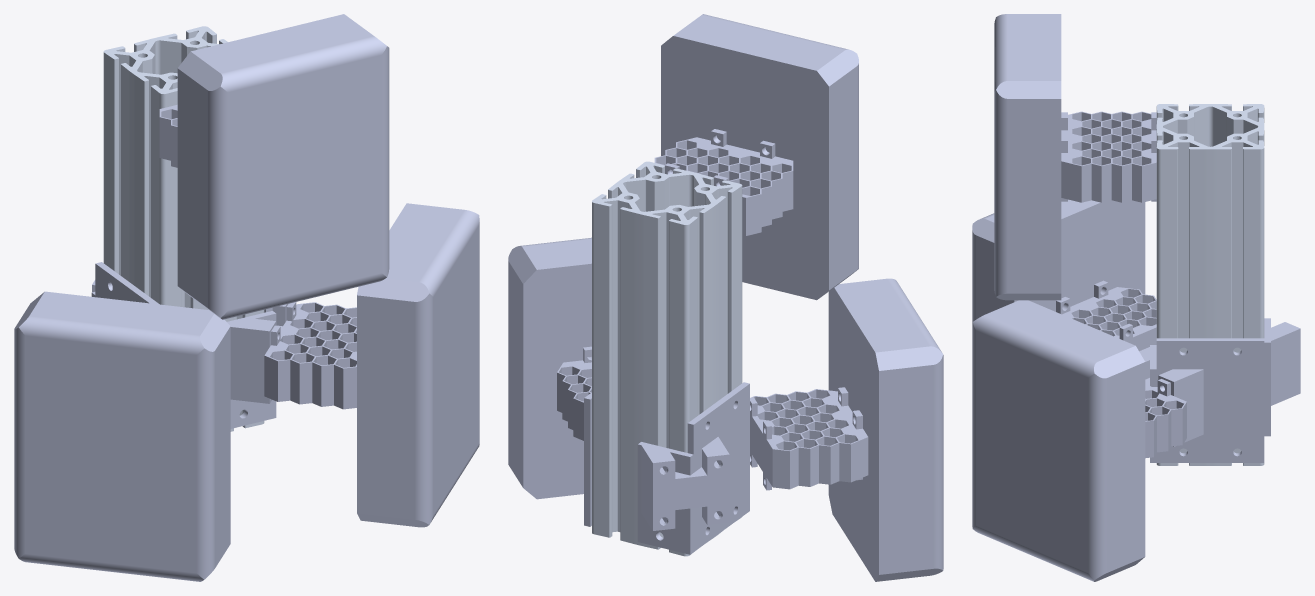
File: honeycomb_sample.glb
The picture shows the model from 3 angles, left to right: view 1: azimuth 30°, elevation 25°; view 2: azimuth 150°, elevation 25°; view 3: azimuth 270°, elevation 25°; orthographic projection. The views are drawn at different scales.
Visible parts, largest first — view 1: Future Iteration Foam Mounts, foam-1, foam-3, Mirrortpu_side_mount_iteration_1-2, tpu_spring_iteration_2-1; view 2: Future Iteration Foam Mounts, foam-1, foam-3, tpu_spring_iteration_2-2, tpu_spring_iteration_2-1, Mirrortpu_side_mount_iteration_1-2; view 3: Future Iteration Foam Mounts, foam-3, foam-1, Mirrortpu_side_mount_iteration_1-2, tpu_spring_iteration_2-1, tpu_spring_iteration_2-2.
Part boxes in pixels (x1,y1,x2,y2): Future Iteration Foam Mounts: (14,26,356,581); foam-1: (177,14,389,319); foam-3: (357,203,479,527); Mirrortpu_side_mount_iteration_1-2: (227,304,288,428); tpu_spring_iteration_2-1: (159,104,177,167); Future Iteration Foam Mounts: (557,161,943,581); foam-1: (661,14,858,300); foam-3: (508,237,591,499); tpu_spring_iteration_2-2: (750,387,868,490); tpu_spring_iteration_2-1: (654,129,793,235); Mirrortpu_side_mount_iteration_1-2: (584,392,591,526); Future Iteration Foam Mounts: (972,104,1300,465); foam-3: (972,300,1145,581); foam-1: (994,14,1061,300); Mirrortpu_side_mount_iteration_1-2: (1139,338,1264,462); tpu_spring_iteration_2-1: (1061,111,1156,202); tpu_spring_iteration_2-2: (1056,280,1156,351).
Bounding box in the file's own units: 0.3546 × 0.36 × 0.2444.
